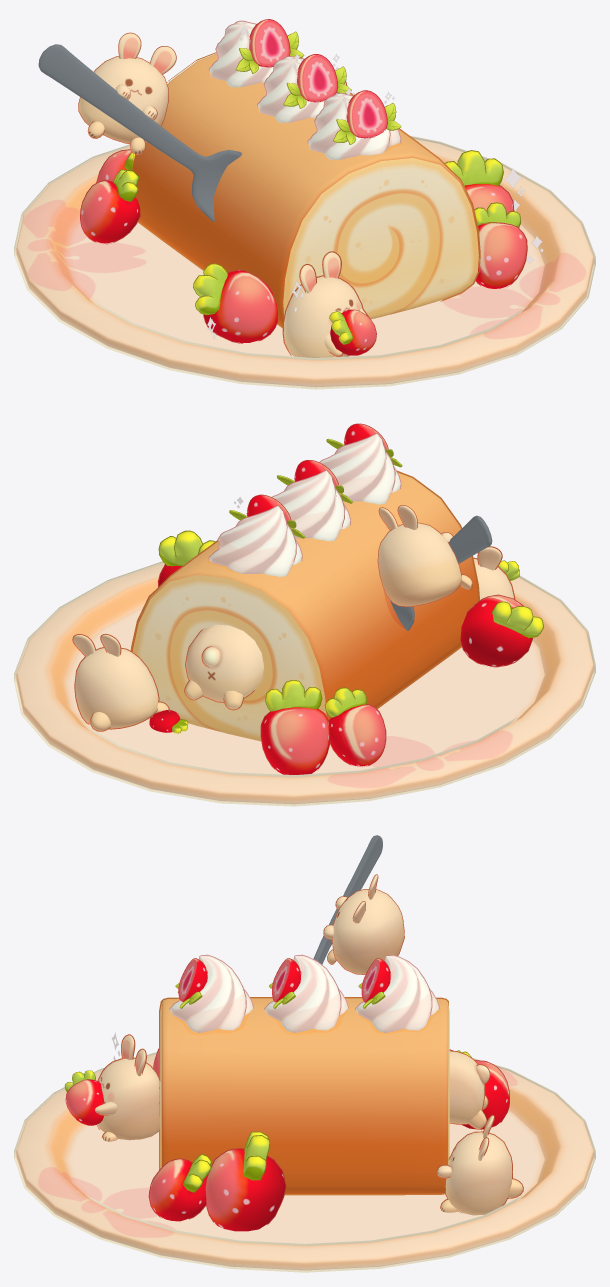
The model's file is cake_roll.glb.
3 views of the same model, one above another, from view 1: azimuth 30°, elevation 25°; view 2: azimuth 150°, elevation 25°; view 3: azimuth 270°, elevation 25° (orthographic). The views are drawn at different scales.
Visible parts, largest first — view 1: Plate, Roll_cake, Spoon, Bony.012, Bony.010, Berry.013, Berry, Berry.014, Meringue, Berry.001, Meringue.001, Meringue.002 (+5 smaller); view 2: Plate, Roll_cake, Bony.006, Bony.012, Berry.015, Bony.011, Berry.013, Meringue.002, Berry.014, Meringue, Meringue.001, Spoon (+6 smaller); view 3: Plate, Roll_cake, Berry.001, Bony.006, Bony.012, Bony.010, Meringue.002, Meringue.001, Meringue, Berry, Bony.011, Berry.012 (+5 smaller).
Part boxes in pixels (x1,y1,x2,y2): Plate: (14,136,595,389); Roll_cake: (131,52,480,327); Spoon: (38,44,241,222); Bony.012: (78,32,176,154); Bony.010: (282,251,370,357); Berry.013: (193,263,278,343); Berry: (474,202,527,288); Berry.014: (80,169,140,244); Meringue: (307,93,401,159); Berry.001: (445,150,514,213); Meringue.001: (257,56,346,122); Meringue.002: (208,20,273,87); Plate: (14,561,595,806); Roll_cake: (130,470,479,741); Bony.006: (72,633,169,731); Bony.012: (377,505,472,606); Berry.015: (260,680,330,774); Bony.011: (184,624,263,710); Berry.013: (460,594,543,667); Meringue.002: (208,505,302,576); Berry.014: (324,687,386,766); Meringue: (319,433,401,504); Meringue.001: (272,469,350,541); Spoon: (390,515,492,630); Plate: (14,1052,595,1272); Roll_cake: (159,997,449,1195); Berry.001: (205,1131,286,1231); Bony.006: (436,1115,523,1215); Bony.012: (323,874,404,974); Bony.010: (95,1034,160,1141); Meringue.002: (355,954,439,1032); Meringue.001: (264,954,348,1032); Meringue: (169,954,253,1033); Berry: (148,1154,212,1221); Bony.011: (449,1050,490,1129); Berry.012: (64,1070,104,1125).
Bounding box in the file's own units: 2.81 × 1.48 × 3.05.
4 materials, 4 textured.
